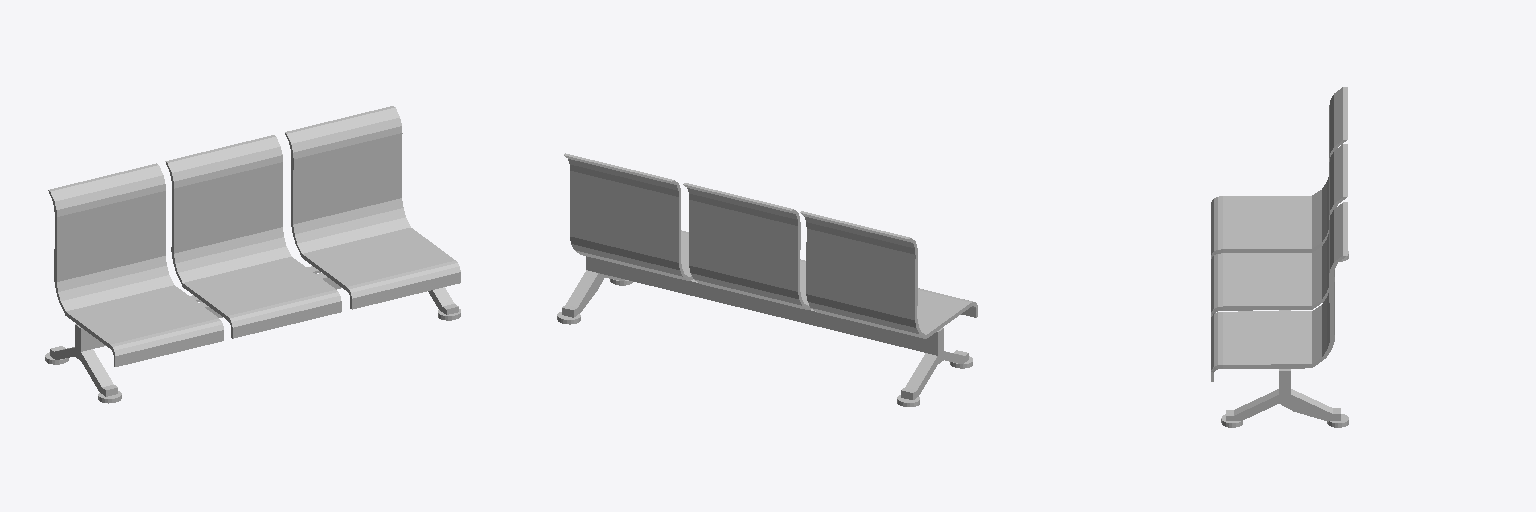
Rendered from hospitalChair.obj.
The picture shows the model from 3 angles: view 1: azimuth 30°, elevation 25°; view 2: azimuth 150°, elevation 25°; view 3: azimuth 270°, elevation 25°; orthographic projection.
Parts seen in each view (by area): view 1: objMesh; view 2: objMesh; view 3: objMesh.
Part boxes in pixels (bbox=[...]): objMesh: bbox=[45, 106, 460, 403]; objMesh: bbox=[557, 153, 977, 406]; objMesh: bbox=[1211, 87, 1348, 427].
Size of the model in its own units: 0.6652 by 0.2957 by 0.2216.